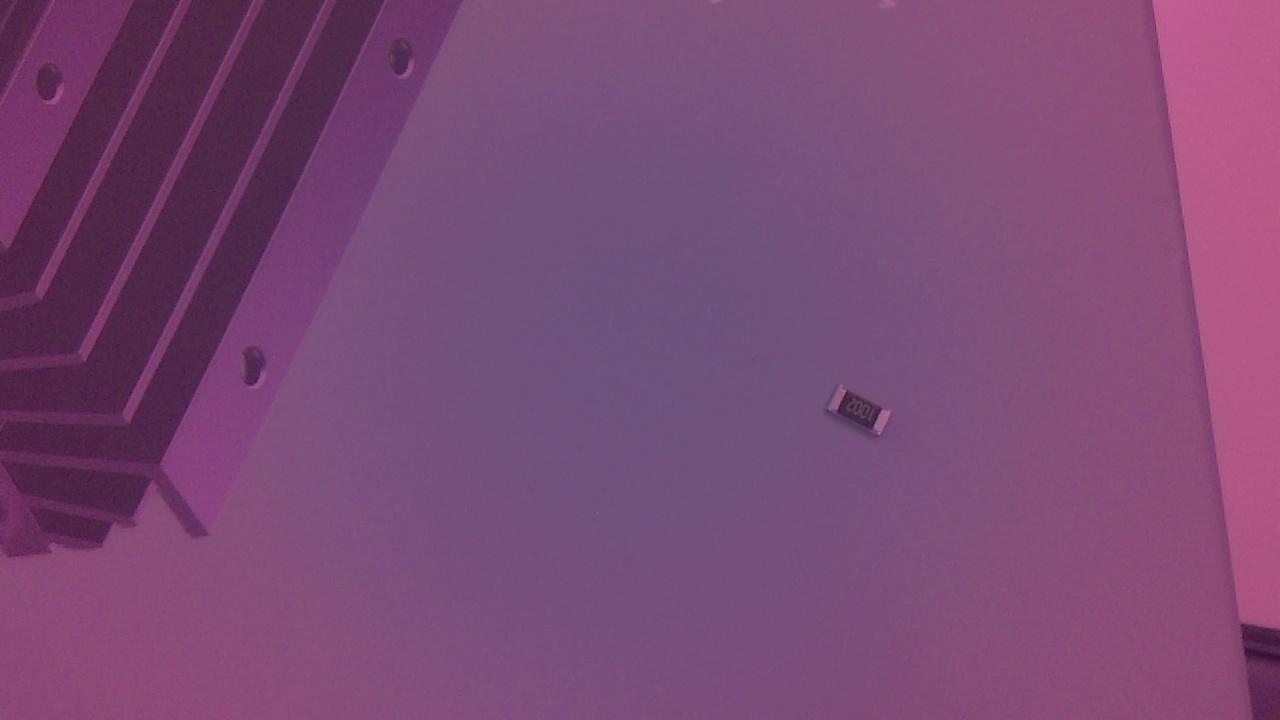Resistor: (825, 380, 905, 454)
